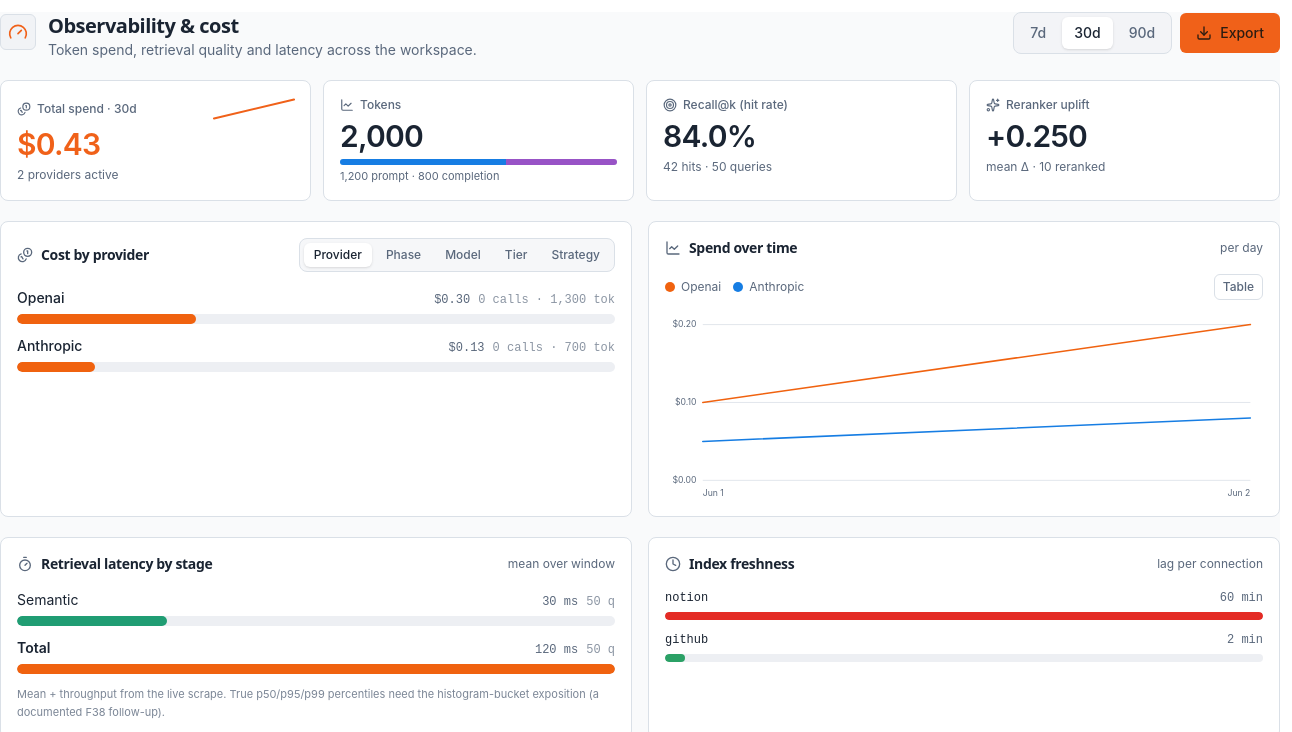
Scenario: ObservabilityView › reveals the spend-over-time data table for accessibility
Expected: the element with test id "cost-trend" is shown, [665,274,1263,500]
Click the button "Table": click(1238, 287) [1214,274,1263,300]
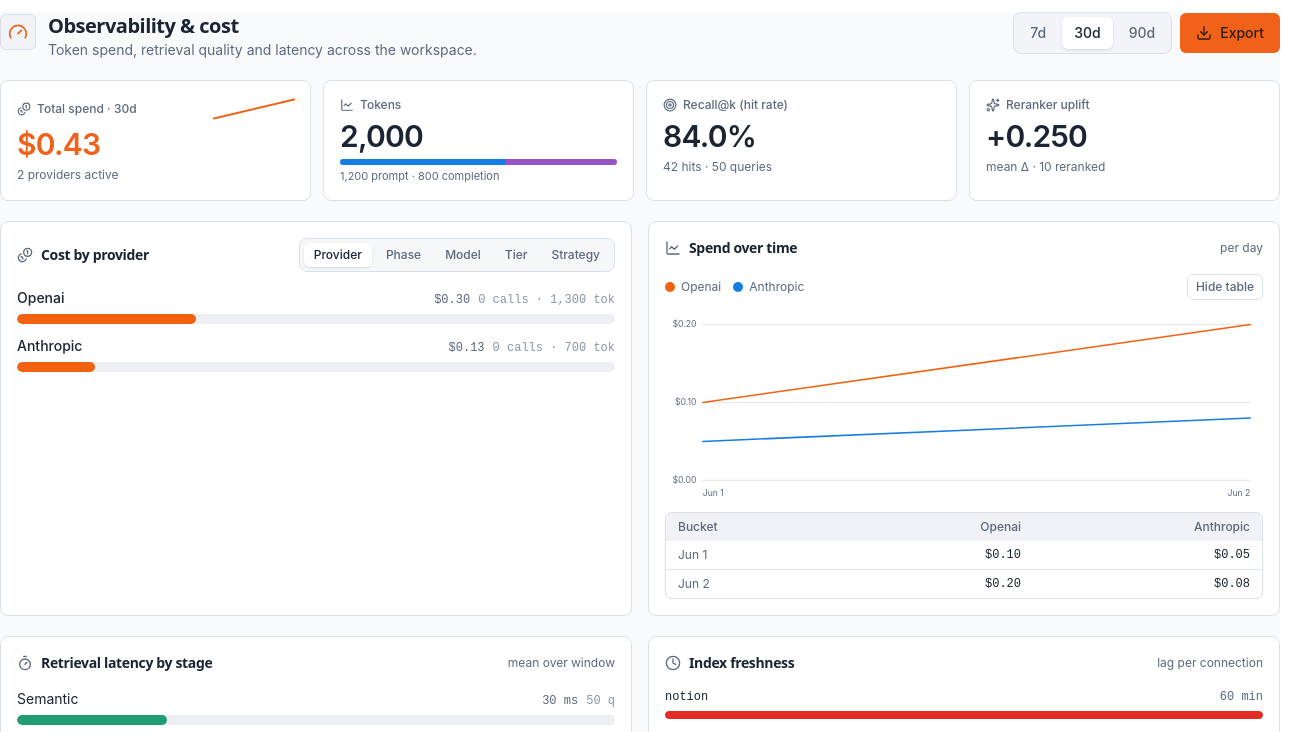
Now the table shows "Openai", box [980,520,1021,534]
Now the table shows "Anthropic", box [1194,520,1250,534]
